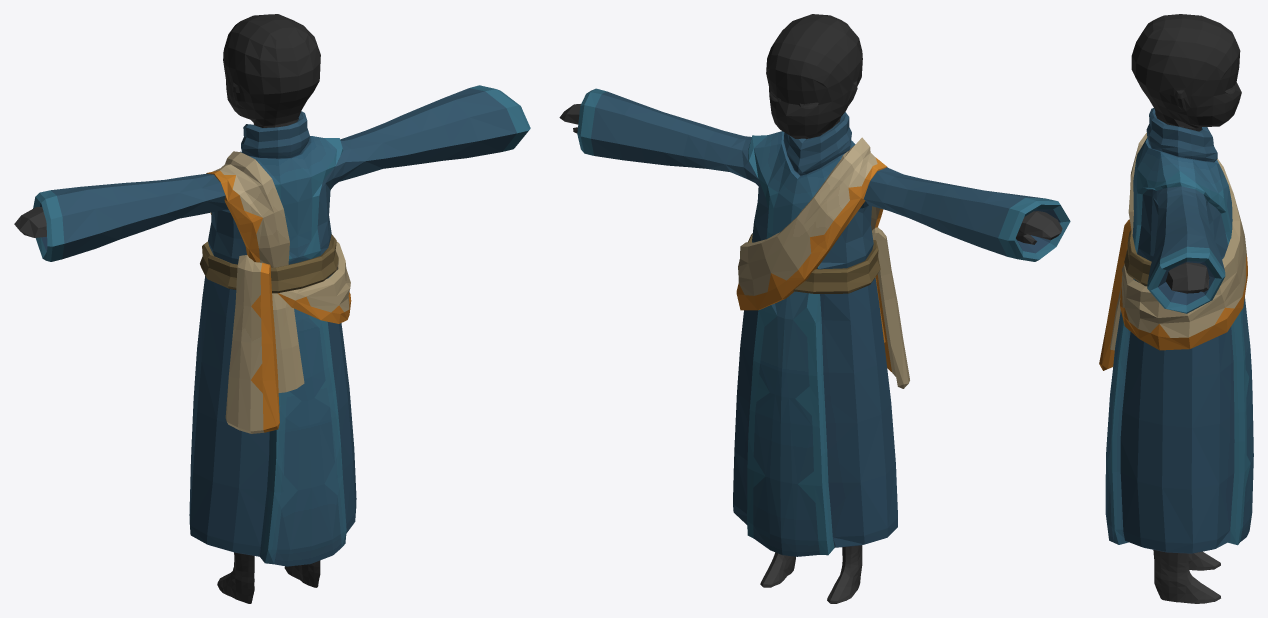
Rendered from CharSkyKid_Body_AP19MonkRobe.glb.
3 views of the same model, side by side, from view 1: azimuth 30°, elevation 25°; view 2: azimuth 150°, elevation 25°; view 3: azimuth 270°, elevation 25° (orthographic).
Parts seen in each view (by area): view 1: CharSkyKid_Body_AP19MonkRobe; view 2: CharSkyKid_Body_AP19MonkRobe; view 3: CharSkyKid_Body_AP19MonkRobe.
Boxes of the visible parts, <box> form: CharSkyKid_Body_AP19MonkRobe: <box>14,14,530,603</box>; CharSkyKid_Body_AP19MonkRobe: <box>559,14,1070,603</box>; CharSkyKid_Body_AP19MonkRobe: <box>1099,14,1253,603</box>.
Bounding box in the file's own units: 13.83 × 14.94 × 3.71.
1 material, 1 textured.
